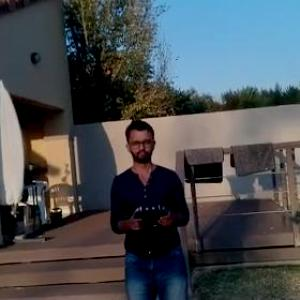follow: (104, 117, 197, 299)
